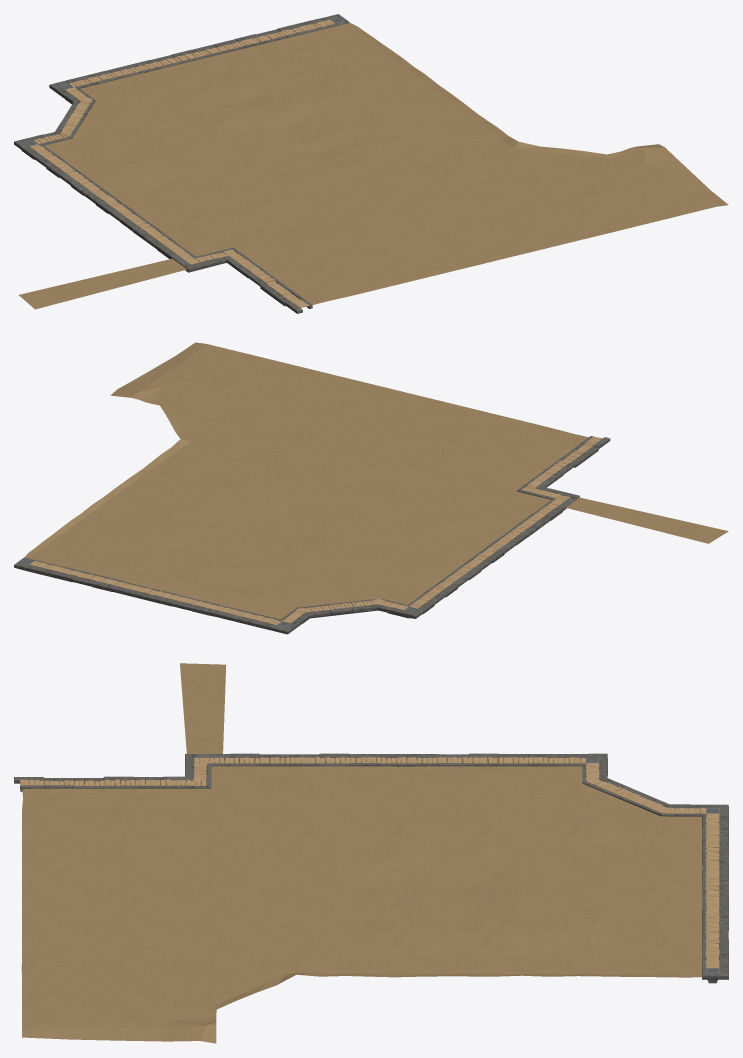
The model's file is SM_ENV_KNVLLG_ground_01.fbx.
3 views of the same model, one above another, from view 1: azimuth 30°, elevation 25°; view 2: azimuth 150°, elevation 25°; view 3: azimuth 270°, elevation 25° (orthographic). The views are drawn at different scales.
Parts seen in each view (by area): view 1: SM_ENV_KNVLLG_ground_01.mo; view 2: SM_ENV_KNVLLG_ground_01.mo; view 3: SM_ENV_KNVLLG_ground_01.mo.
Part boxes in pixels (<box>): SM_ENV_KNVLLG_ground_01.mo: <box>14,14,728,313</box>; SM_ENV_KNVLLG_ground_01.mo: <box>14,342,728,634</box>; SM_ENV_KNVLLG_ground_01.mo: <box>14,663,728,1043</box>.
Bounding box in the file's own units: 13709 × 193 × 10944.
